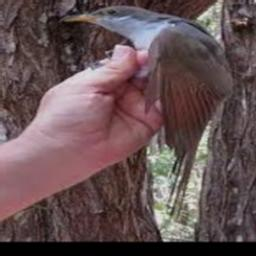Cuckoo: (61, 5, 233, 219)
